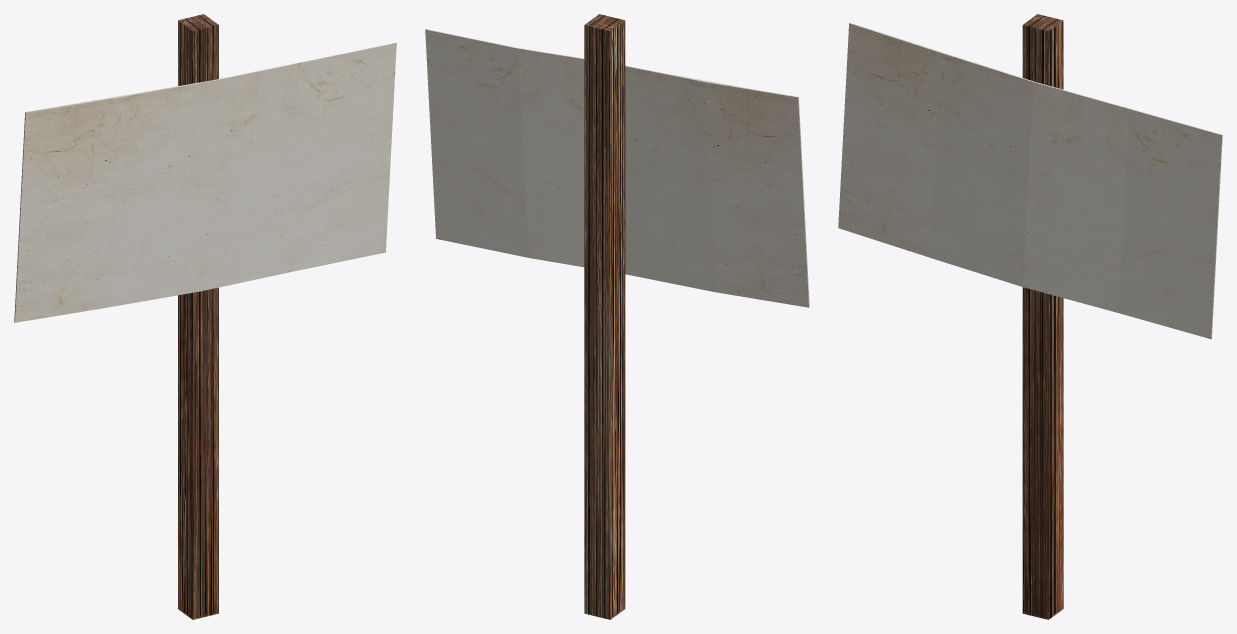
The model's file is Sign Post.fbx.
3 renders of one model, left to right at view 1: azimuth 30°, elevation 25°; view 2: azimuth 150°, elevation 25°; view 3: azimuth 330°, elevation 25°, orthographic.
Visible parts, largest first — view 1: pCube3, pCube2; view 2: pCube3, pCube2; view 3: pCube3, pCube2.
Part boxes in pixels (box(x1,y1,x2,y2)): pCube3: box(14, 42, 396, 322); pCube2: box(178, 14, 218, 619); pCube3: box(425, 29, 809, 307); pCube2: box(584, 14, 625, 619); pCube3: box(838, 23, 1222, 338); pCube2: box(1022, 14, 1063, 619).
Bounding box in the file's own units: 10.27 × 15.09 × 0.9056.
